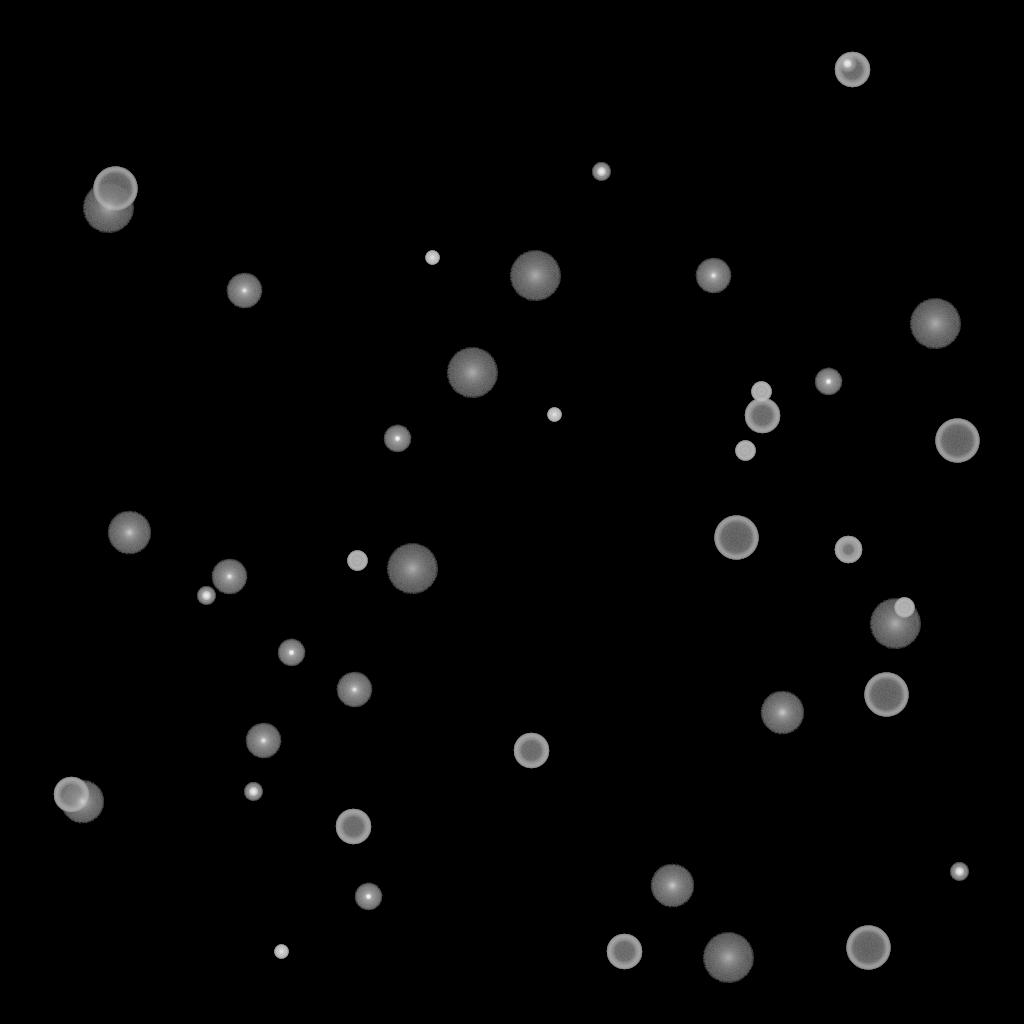depth:-10: (277, 639, 305, 667), (354, 883, 382, 911), (383, 425, 411, 453), (814, 368, 842, 396)
depth:-20: (592, 163, 610, 181), (244, 783, 262, 801), (838, 55, 856, 73), (197, 587, 215, 605), (950, 863, 968, 881)
depth:-30: (274, 945, 288, 959), (547, 408, 561, 422), (425, 251, 439, 265)
depth:-40: (751, 382, 771, 402), (347, 551, 367, 571), (735, 441, 755, 461), (894, 598, 914, 618)
depth:-50: (834, 536, 862, 564)
depth:-60: (744, 398, 780, 434), (834, 52, 870, 88), (335, 809, 371, 845), (513, 733, 549, 769), (606, 934, 642, 970), (53, 777, 89, 813)
depth:-70: (93, 167, 137, 211), (714, 516, 758, 560), (846, 926, 890, 970), (935, 419, 979, 463), (864, 673, 908, 717)
depth:0: (245, 723, 281, 759), (226, 273, 262, 309), (336, 672, 372, 708), (211, 559, 247, 595), (695, 258, 731, 294)
depth:10: (650, 864, 694, 908), (760, 691, 804, 735), (60, 780, 104, 824), (107, 511, 151, 555)
depth:20: (82, 183, 134, 233), (702, 933, 754, 983), (869, 599, 921, 649), (509, 251, 561, 301), (386, 544, 438, 594), (909, 299, 961, 349), (446, 348, 498, 398)
